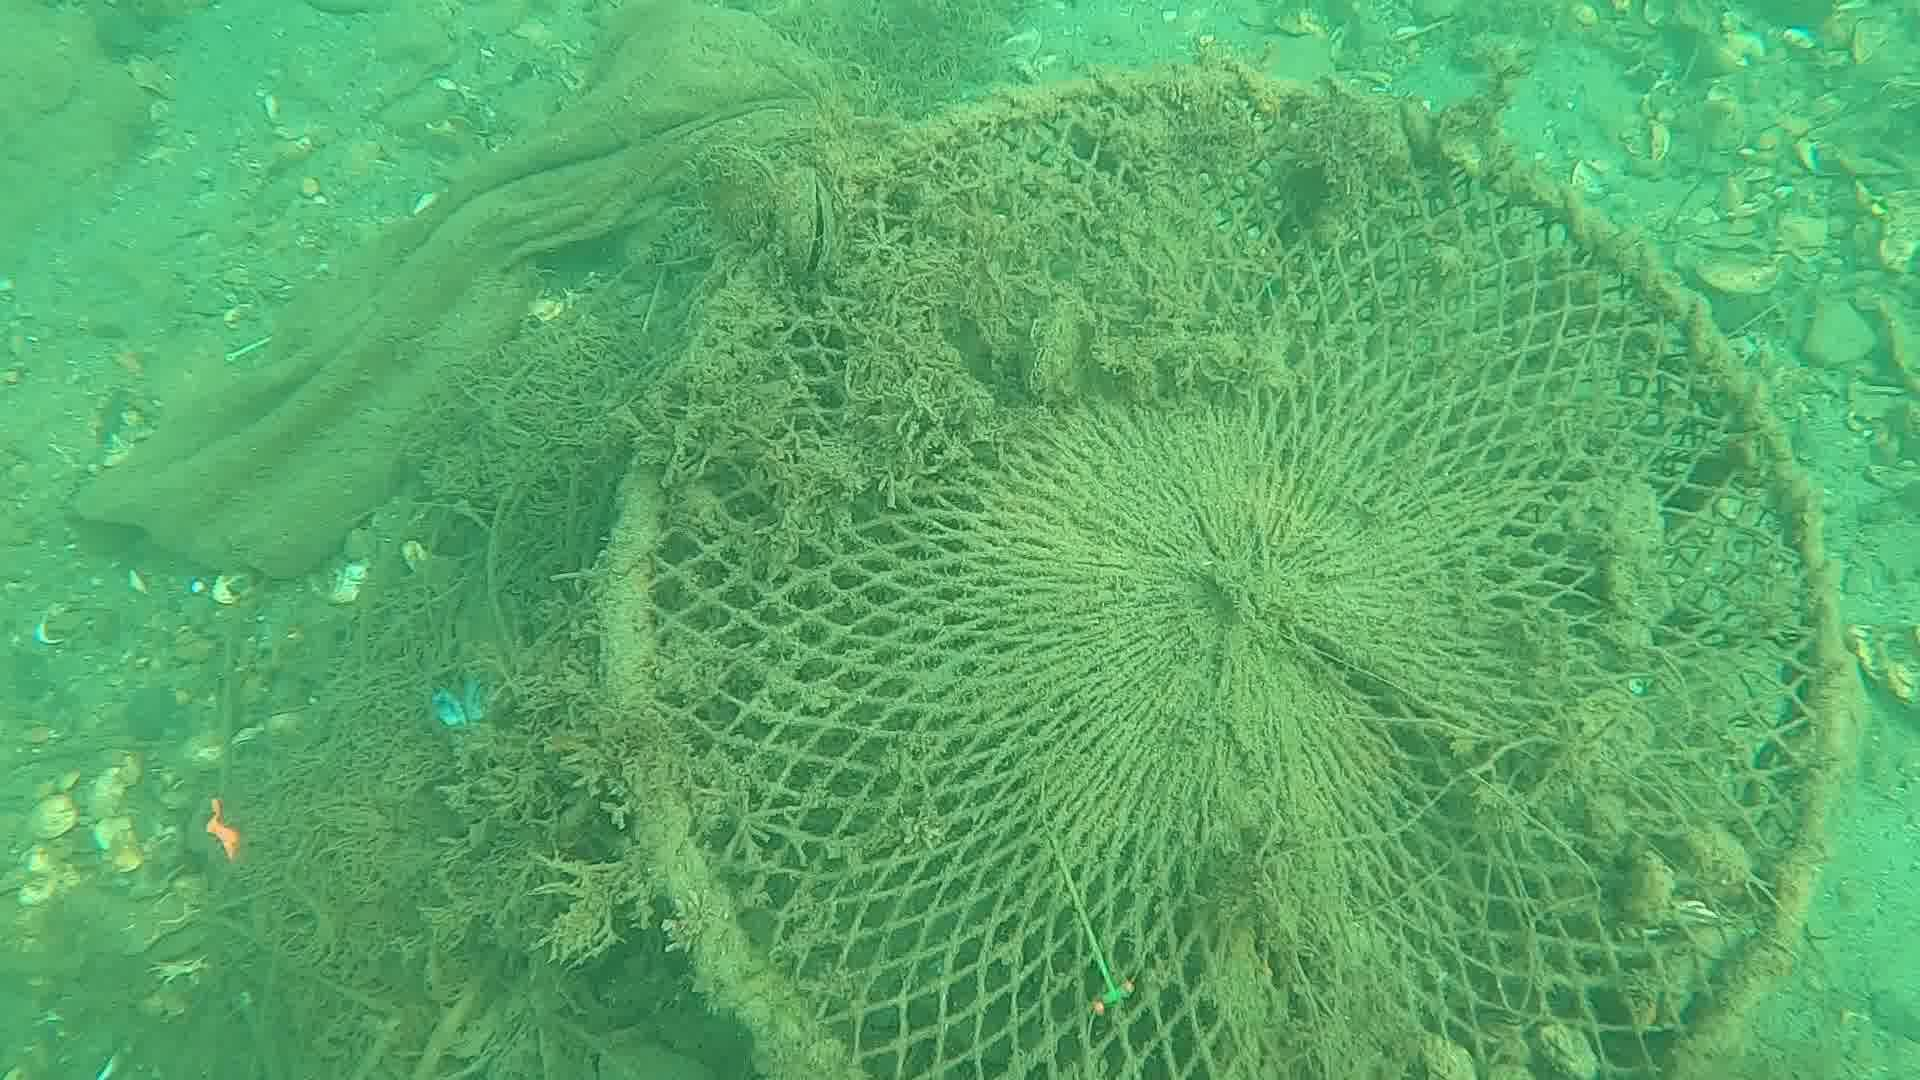circular fish trap: (591, 61, 1850, 1080)
